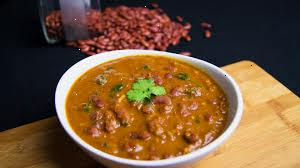rajma: (81, 55, 236, 151)
